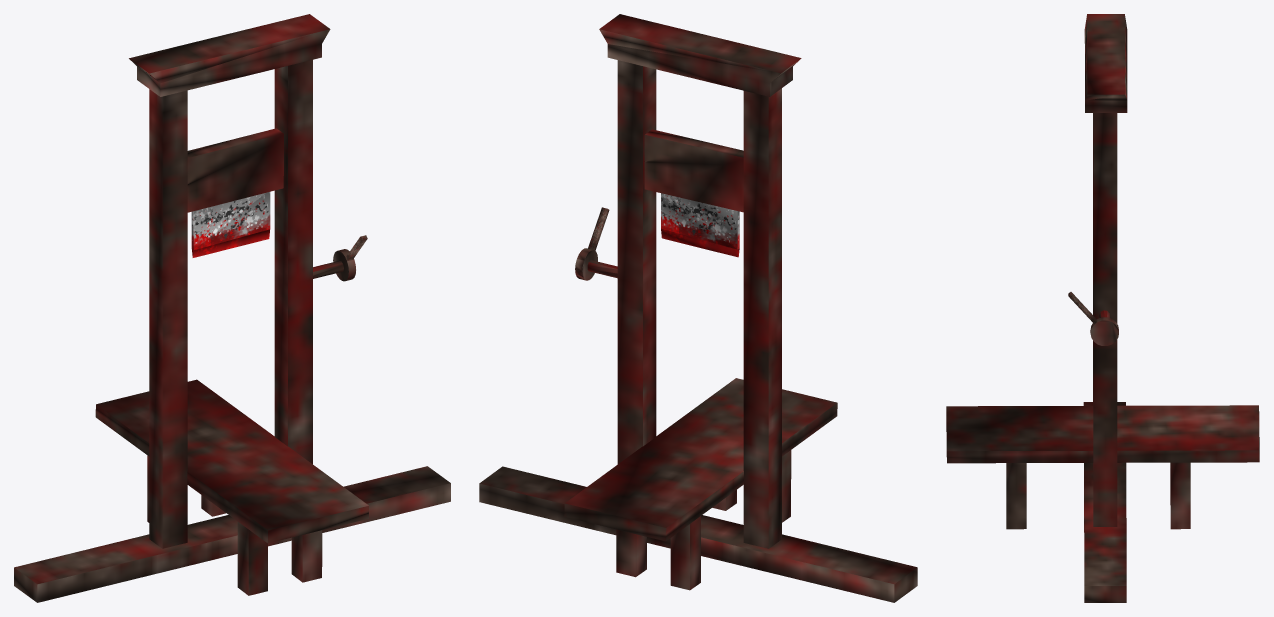
File: Cutting Machine.fbx
3 views of the same model, side by side, from view 1: azimuth 30°, elevation 25°; view 2: azimuth 150°, elevation 25°; view 3: azimuth 270°, elevation 25° (orthographic). The views are drawn at different scales.
Visible parts, largest first — view 1: AM_Guillotine, AM_Guillotine.002, AM_Guillotine.003, AM_Guillotine.001; view 2: AM_Guillotine, AM_Guillotine.002, AM_Guillotine.003, AM_Guillotine.001; view 3: AM_Guillotine, AM_Guillotine.001.
Boxes of the visible parts, box(x1,y1,x2,y2) form: AM_Guillotine: box(14, 14, 450, 602); AM_Guillotine.002: box(187, 128, 283, 212); AM_Guillotine.003: box(191, 192, 270, 257); AM_Guillotine.001: box(333, 235, 367, 281); AM_Guillotine: box(479, 14, 917, 602); AM_Guillotine.002: box(644, 129, 743, 212); AM_Guillotine.003: box(661, 193, 739, 257); AM_Guillotine.001: box(575, 207, 609, 280); AM_Guillotine: box(946, 14, 1259, 602); AM_Guillotine.001: box(1068, 292, 1118, 345).
Size of the model in its own units: 184 by 214 by 133.
Materials: 2 (2 with a texture image).
